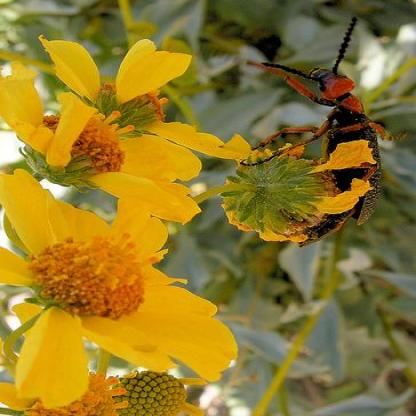beetle: (261, 35, 400, 242)
